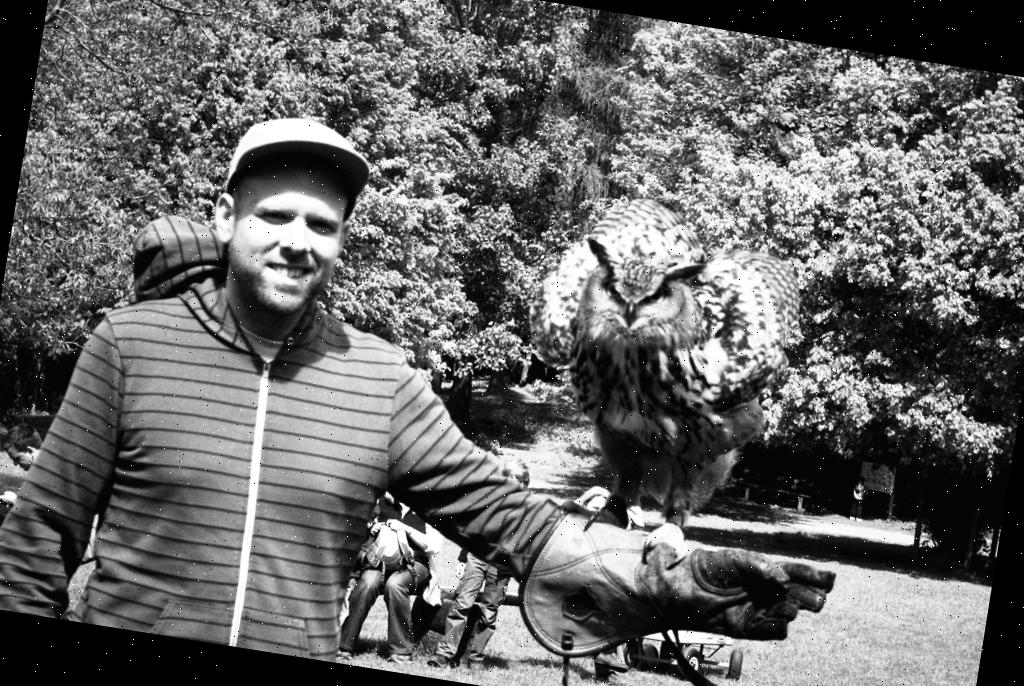Owl: (506, 175, 832, 558)
